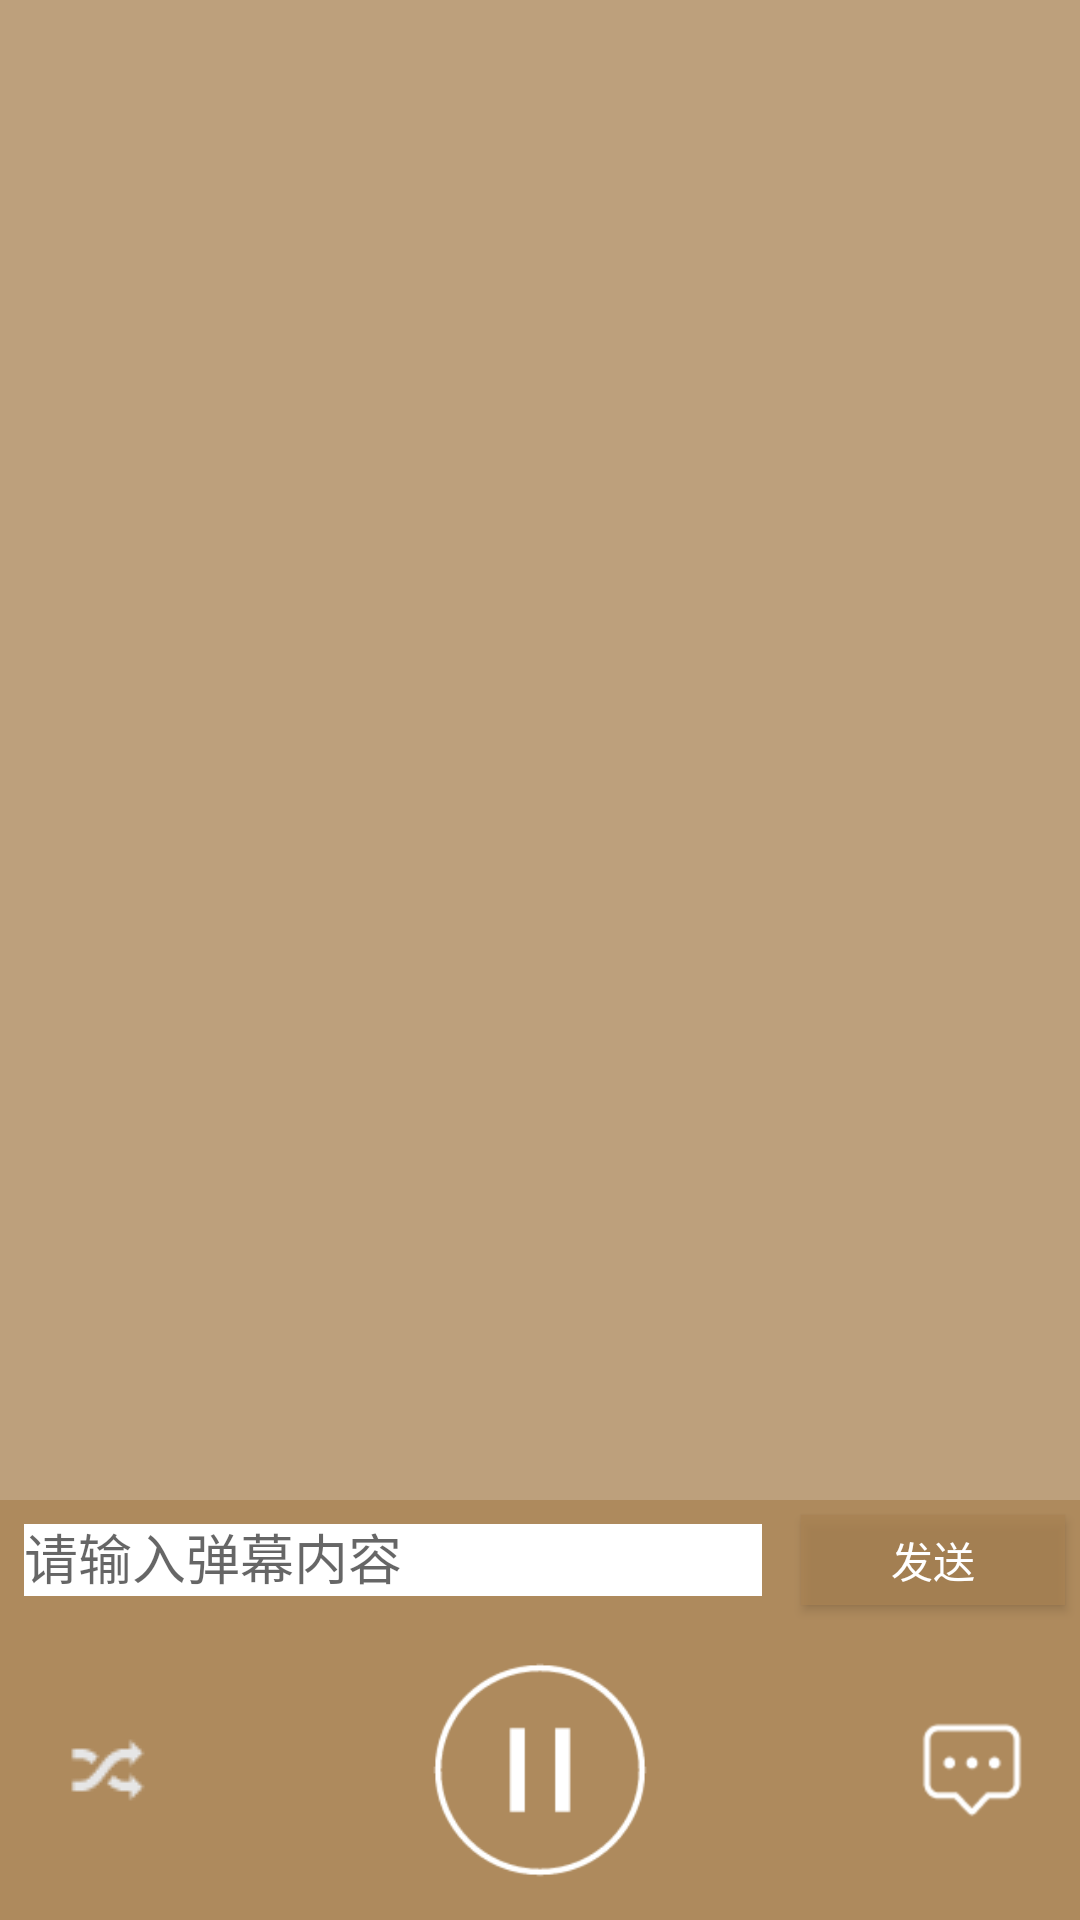

Where to tap for icons on this 1080 × 1920 app screen, as (x,y):
comm: (972,1770)
pasuesc: (540,1770)
random: (107,1770)
